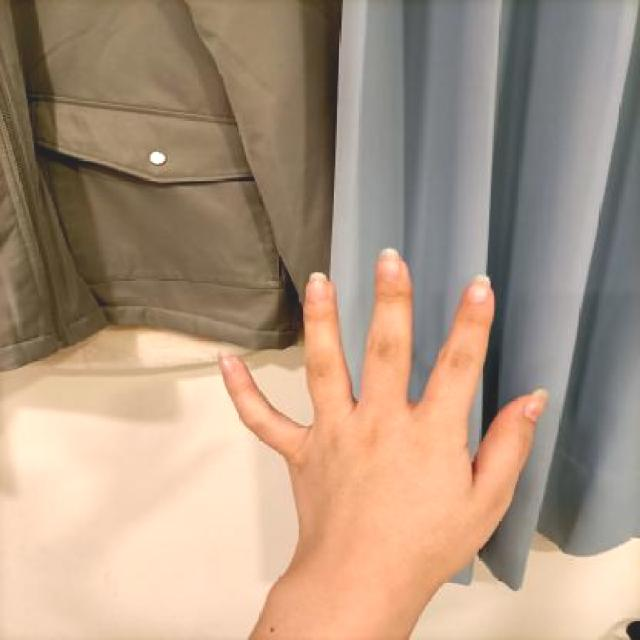no_glove: (209, 238, 554, 622)
